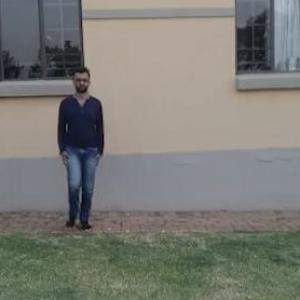follow: (56, 65, 105, 229)
